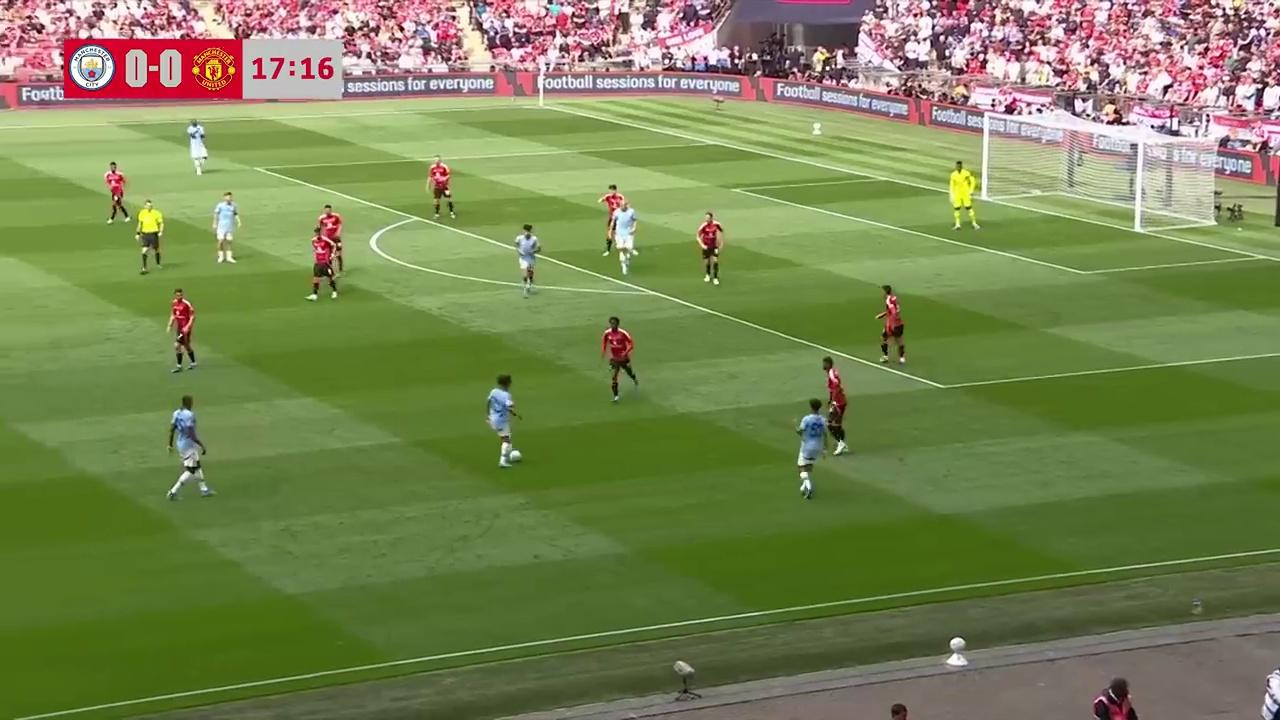ball: (508, 448, 522, 463)
player: (165, 395, 215, 501), (794, 399, 828, 500), (600, 315, 639, 401), (487, 374, 522, 467), (822, 358, 850, 455), (166, 288, 197, 372), (875, 284, 906, 365), (307, 228, 339, 301), (611, 197, 639, 274), (949, 160, 979, 230), (212, 192, 240, 264), (697, 210, 723, 284), (425, 156, 455, 219), (103, 161, 132, 224), (597, 182, 623, 252), (316, 203, 343, 268), (515, 223, 539, 296), (321, 206, 345, 279), (186, 119, 208, 175)
referee: (134, 198, 164, 273)
